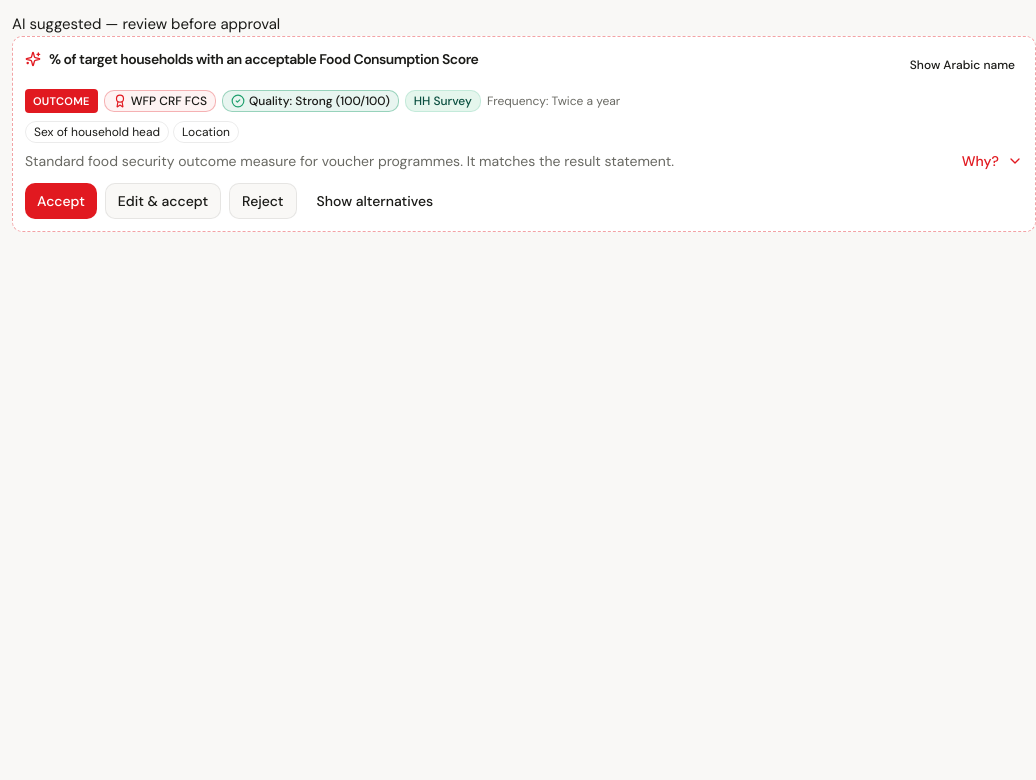
KpiSuggestionCard › opens Why? with the proposed baseline and target and their basis
What coordinates should you click on to do the following:
click the button "Why?"
I would click on:
 (992, 161)
Its box is [962,151,1023,171].
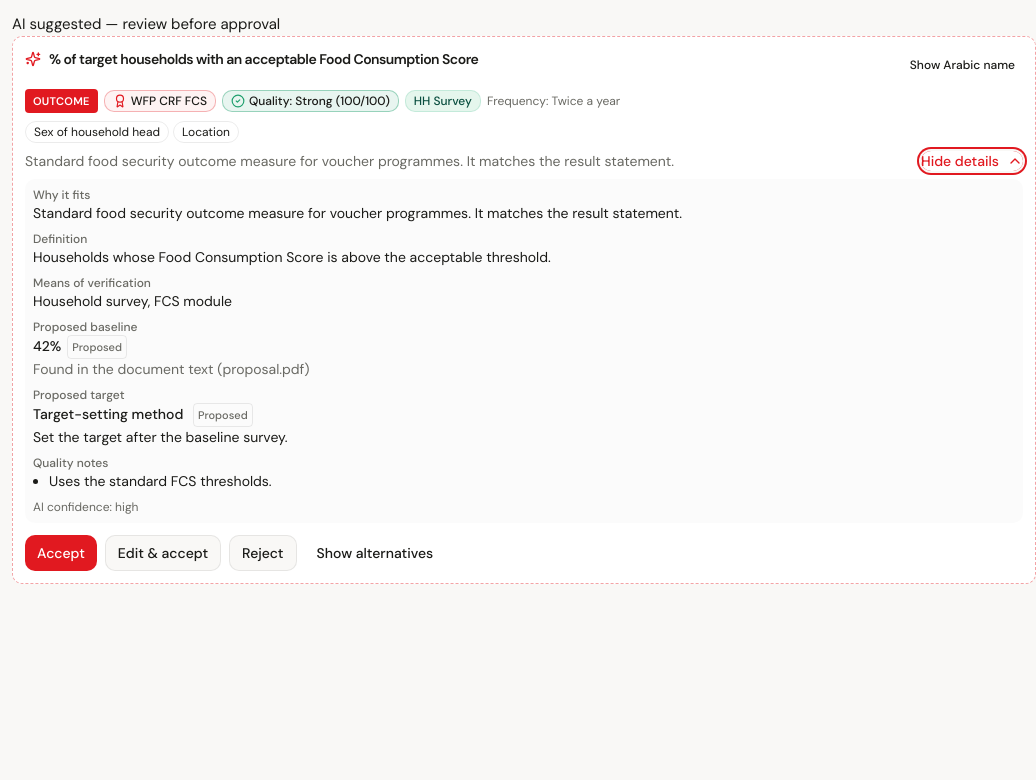
Expected: the button "Hide details" is expanded, [921,151,1023,171]
Expected: the text "Proposed baseline" is shown, [33,319,138,335]
Expected: the text "Found in the document text (proposal.pdf)" is shown, [33,360,310,378]
